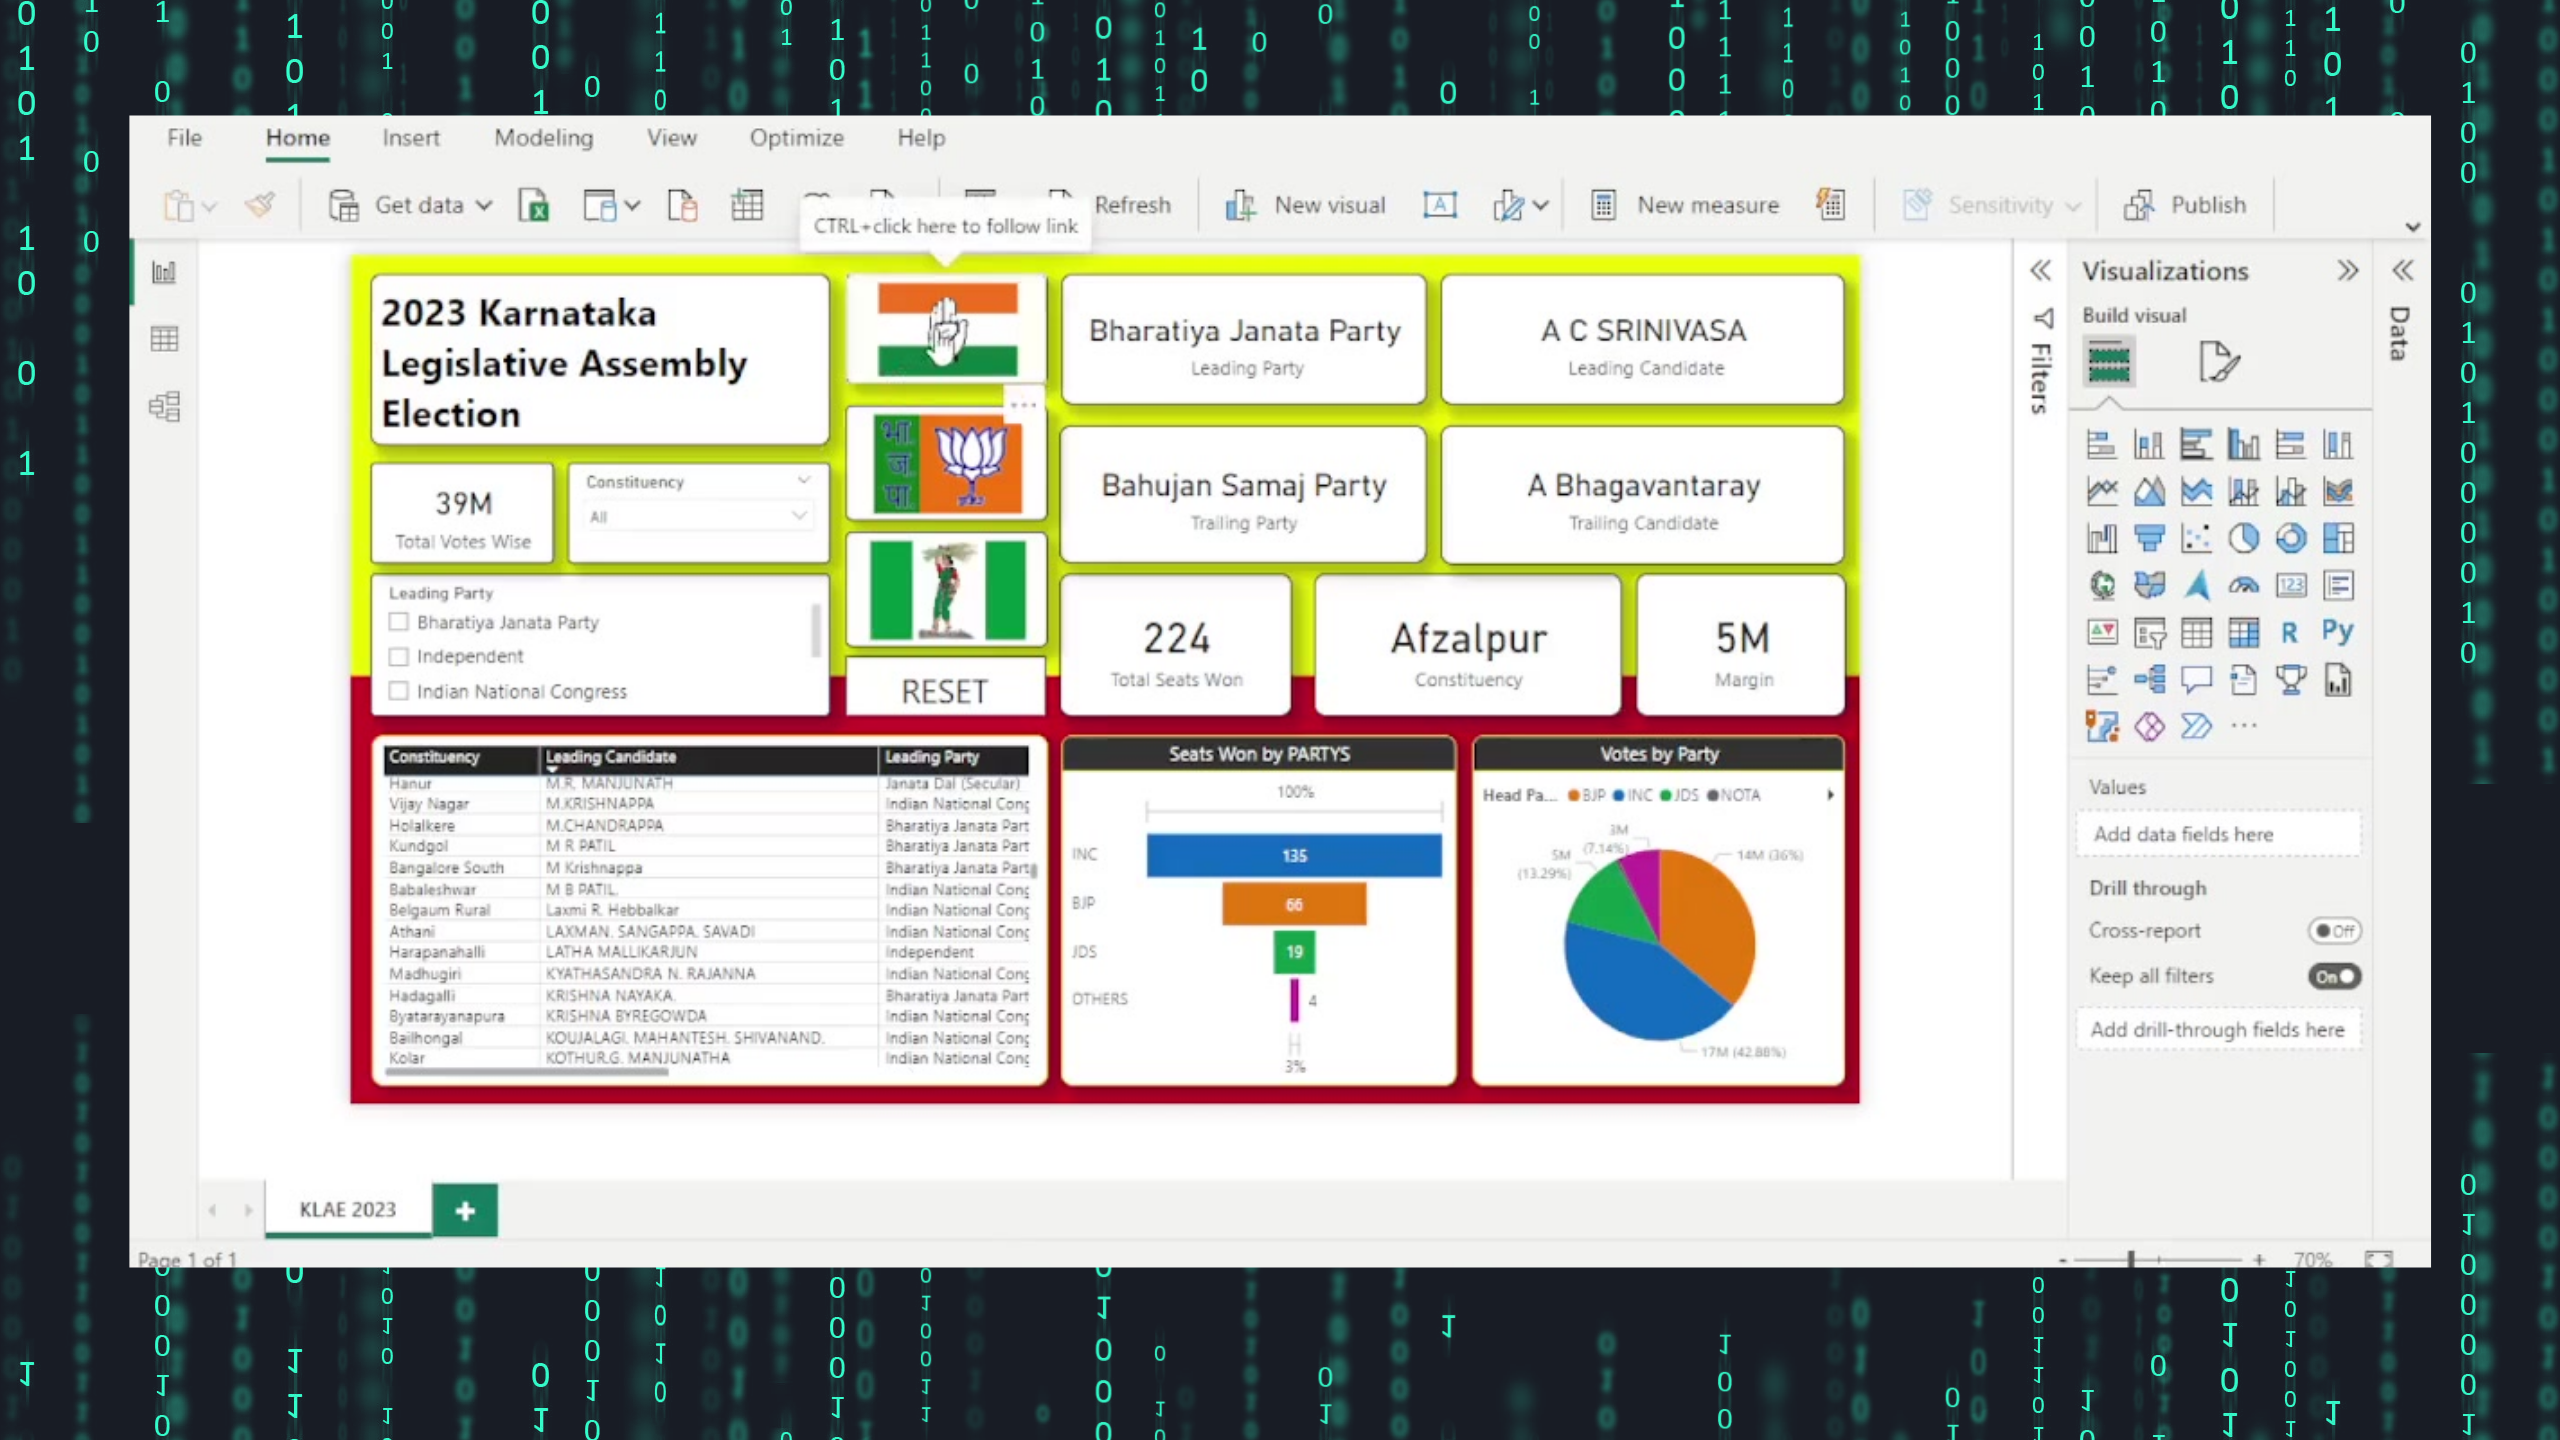

Layout of this report page (visuals, bound fields, positions):
{"tool":"powerbi","page":{"name":"KLAE 2023","canvas":[1280,720],"ordinal":0},"visuals":[{"type":"slicer","fields":{"Values":["TABLE 4.Leading Party"]},"box":[17.1,270,390,121.4],"z":0},{"type":"tableEx","fields":{"Values":["TABLE 4.Constituency","TABLE 4.Leading Candidate","TABLE 4.Leading Party","TABLE 4.Trailing Candidate","TABLE 4.Trailing Party","TABLE 4.Margin","TABLE 4.Const. No."]},"box":[18.6,407.1,572.9,297.1],"z":1000},{"type":"funnel","title":" Seats Won by PARTYS","fields":{"Category":["Table 9.PARTYS"],"Y":["Table 9.Won"]},"box":[602.2,406.7,334.9,297.5],"z":2000},{"type":"pieChart","title":" Votes by Party","fields":{"Y":["Table 10.Votes Wise"],"Series":["Table 10.Head Party"]},"box":[951.4,406.7,316.2,297.5],"z":3000},{"type":"card","fields":{"Values":["Table 10.Votes Wise"]},"box":[17.1,175.7,155.7,85.7],"z":4000},{"type":"card","fields":{"Values":["TABLE 4.Constituency"]},"box":[601.5,270,196.5,121.3],"z":5000},{"type":"card","fields":{"Values":["TABLE 4.Constituency"]},"box":[816.9,270,261.5,121.3],"z":6000},{"type":"card","fields":{"Values":["TABLE 4.Leading Party"]},"box":[602.9,15.7,310,111.4],"z":7000},{"type":"card","fields":{"Values":["TABLE 4.Leading Candidate"]},"box":[924.3,15.7,342.9,111.4],"z":8000},{"type":"card","fields":{"Values":["TABLE 4.Trailing Candidate"]},"box":[924.1,143.7,343.5,117.8],"z":9000},{"type":"card","fields":{"Values":["TABLE 4.Trailing Party"]},"box":[601.4,144.3,311.4,117.1],"z":10000},{"type":"card","fields":{"Values":["TABLE 4.Margin"]},"box":[1090.3,270,177.7,121.3],"z":11000},{"type":"image","box":[419.6,126.5,171,97.7],"z":12000},{"type":"image","box":[419.6,15.8,171,93.4],"z":13000},{"type":"image","box":[419.6,234.3,171,97.7],"z":14000},{"type":"textbox","box":[17,15.6,390.4,145.7],"z":15000},{"type":"actionButton","box":[420.5,340.4,170.2,51.5],"z":16000},{"type":"slicer","fields":{"Values":["TABLE 4.Constituency"]},"box":[184,175.3,222.8,86.2],"z":17000}]}

Visuals, with their boxes on the page's 1280x720 design canvas (x1, y1, x2, y2). These are canvas units, not pixel positions in the 2560x1440 screenshot, which may show the page scaled, cropped or inside an application window:
slicer - TABLE 4.Leading Party: 17,270,407,391
tableEx - TABLE 4.Constituency x TABLE 4.Leading Candidate: 19,407,592,704
" Seats Won by PARTYS" funnel: 602,407,937,704
" Votes by Party" pieChart: 951,407,1268,704
card - Table 10.Votes Wise: 17,176,173,261
card - TABLE 4.Constituency: 602,270,798,391
card - TABLE 4.Constituency: 817,270,1078,391
card - TABLE 4.Leading Party: 603,16,913,127
card - TABLE 4.Leading Candidate: 924,16,1267,127
card - TABLE 4.Trailing Candidate: 924,144,1268,262
card - TABLE 4.Trailing Party: 601,144,913,261
card - TABLE 4.Margin: 1090,270,1268,391
image: 420,126,591,224
image: 420,16,591,109
image: 420,234,591,332
textbox: 17,16,407,161
actionButton: 420,340,591,392
slicer - TABLE 4.Constituency: 184,175,407,262
